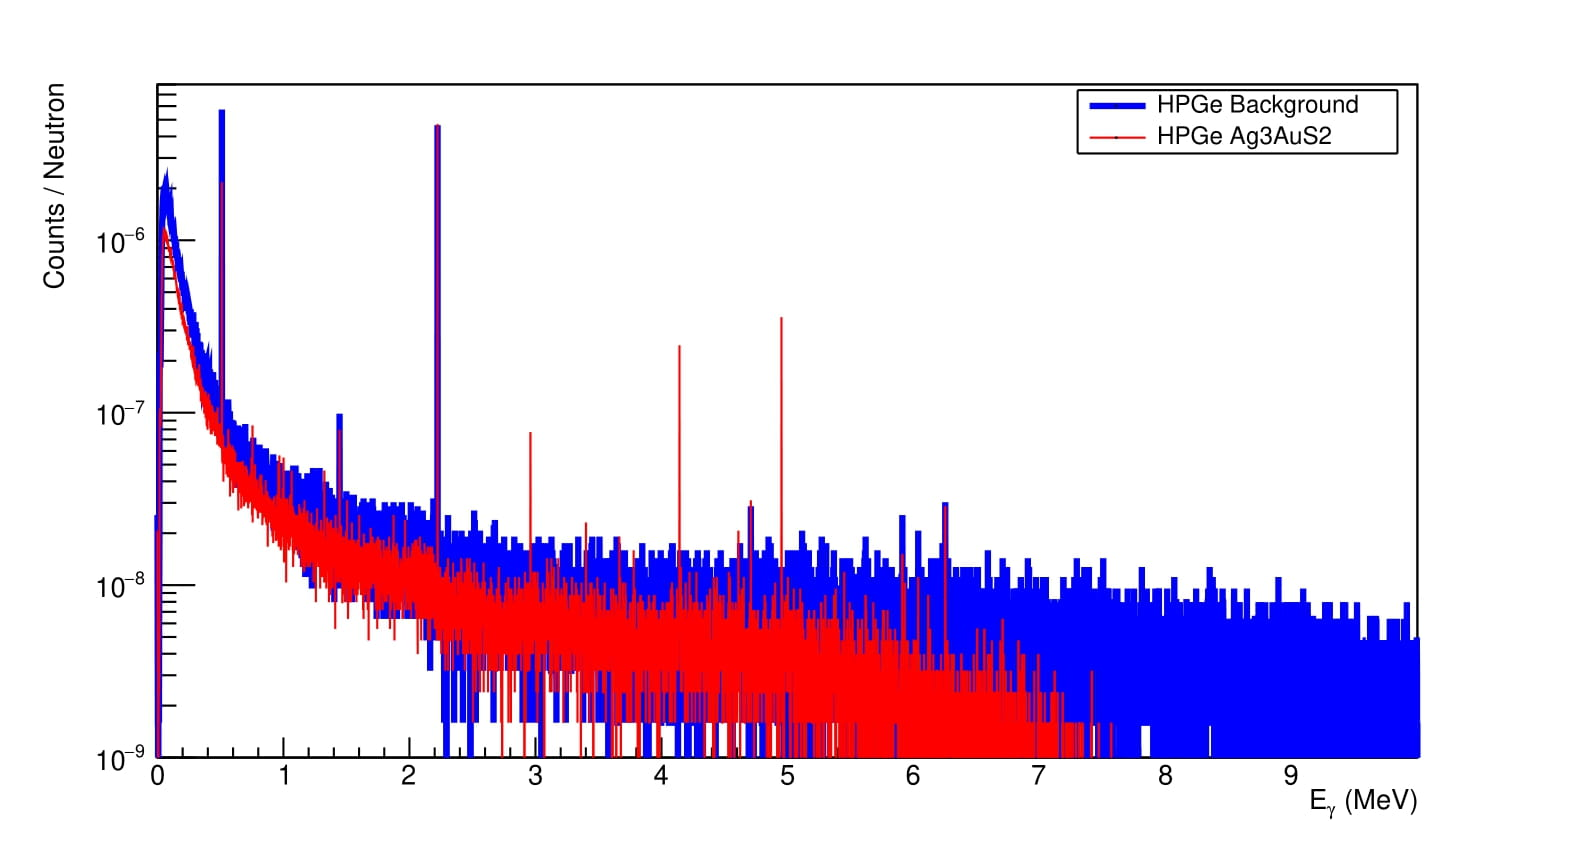gauss: (421, 116, 467, 593), (206, 98, 252, 476), (774, 312, 799, 652), (322, 413, 358, 575), (520, 430, 548, 611), (674, 332, 685, 627)
other: (846, 574, 1421, 761)
